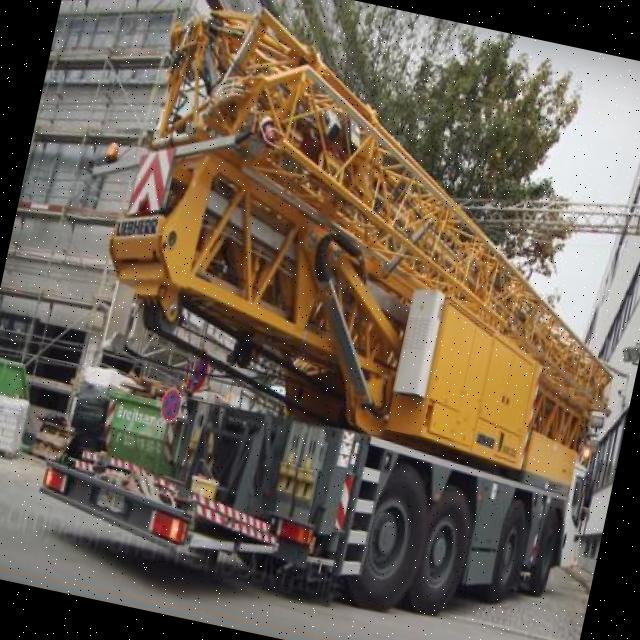Mobile Crane: (31, 0, 640, 640)
